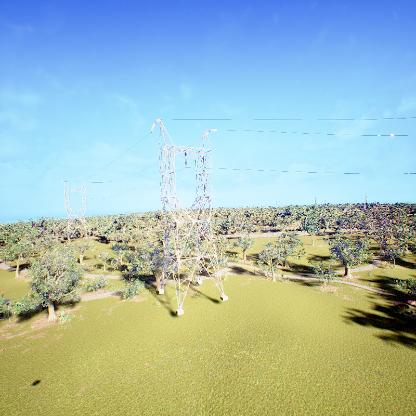tower: (146, 116, 231, 317)
